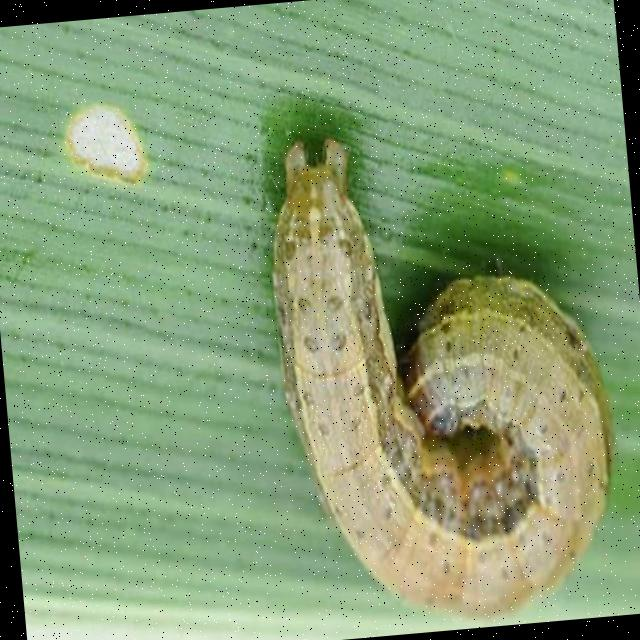worm: (259, 114, 629, 639)
